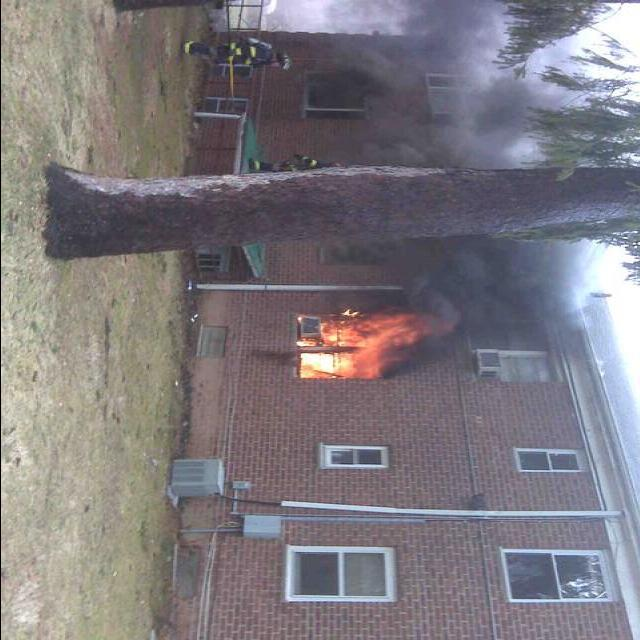Fire: (298, 296, 452, 389)
